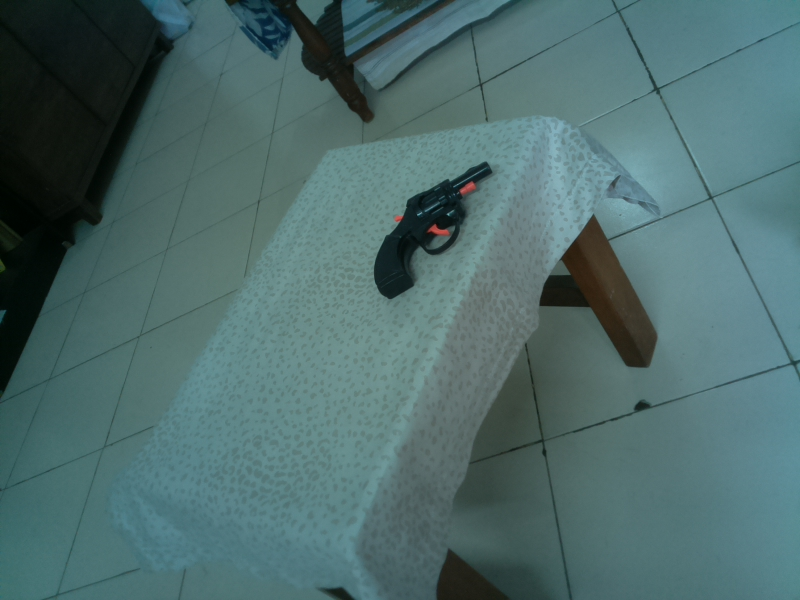Gun: (373, 158, 496, 303)
